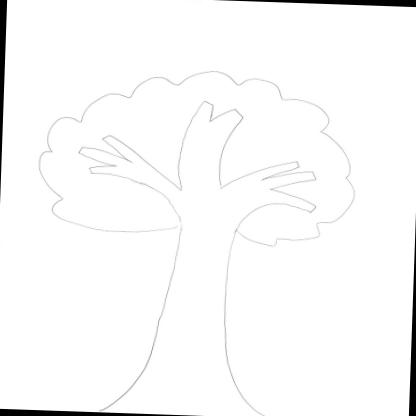branch_cut: (77, 96, 322, 217)
crown_cloud: (34, 60, 362, 252)
trunk_straight: (153, 245, 237, 360)
